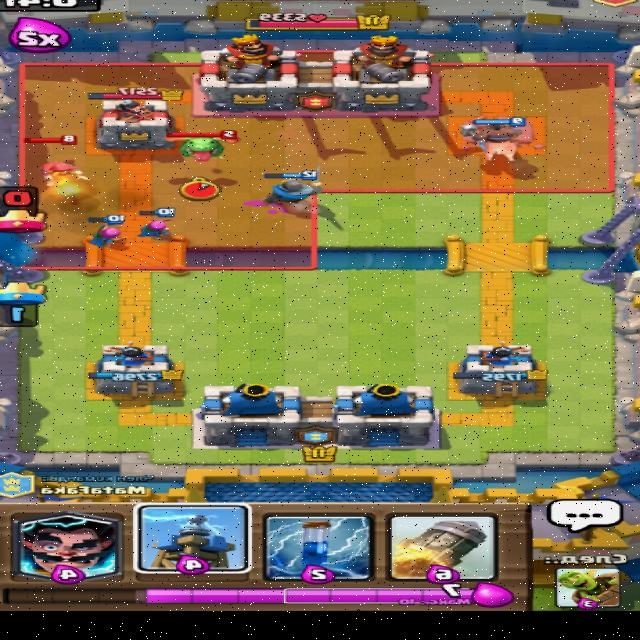Enemy-BabyDragon: (166, 128, 245, 162)
Enemy-Wizard: (23, 133, 93, 186)
Player-Archer: (87, 214, 129, 247), (136, 207, 178, 238)
Player-HogRider: (460, 116, 530, 162)
Player-Knight: (262, 162, 325, 205)
